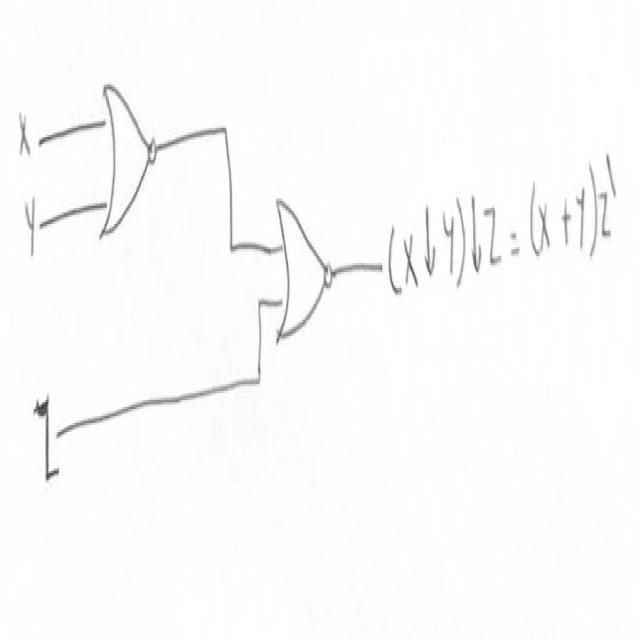NOR: (92, 50, 161, 253), (271, 176, 338, 372)
